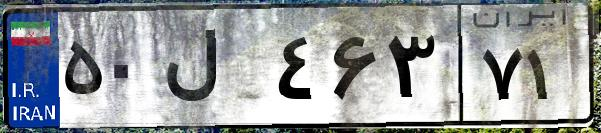0: (110, 28, 158, 98)
1: (525, 38, 570, 115)
3: (385, 28, 445, 110)
4: (270, 28, 330, 110)
5: (57, 26, 110, 100)
6: (330, 28, 385, 110)
7: (475, 38, 525, 113)
ل: (158, 20, 270, 120)
